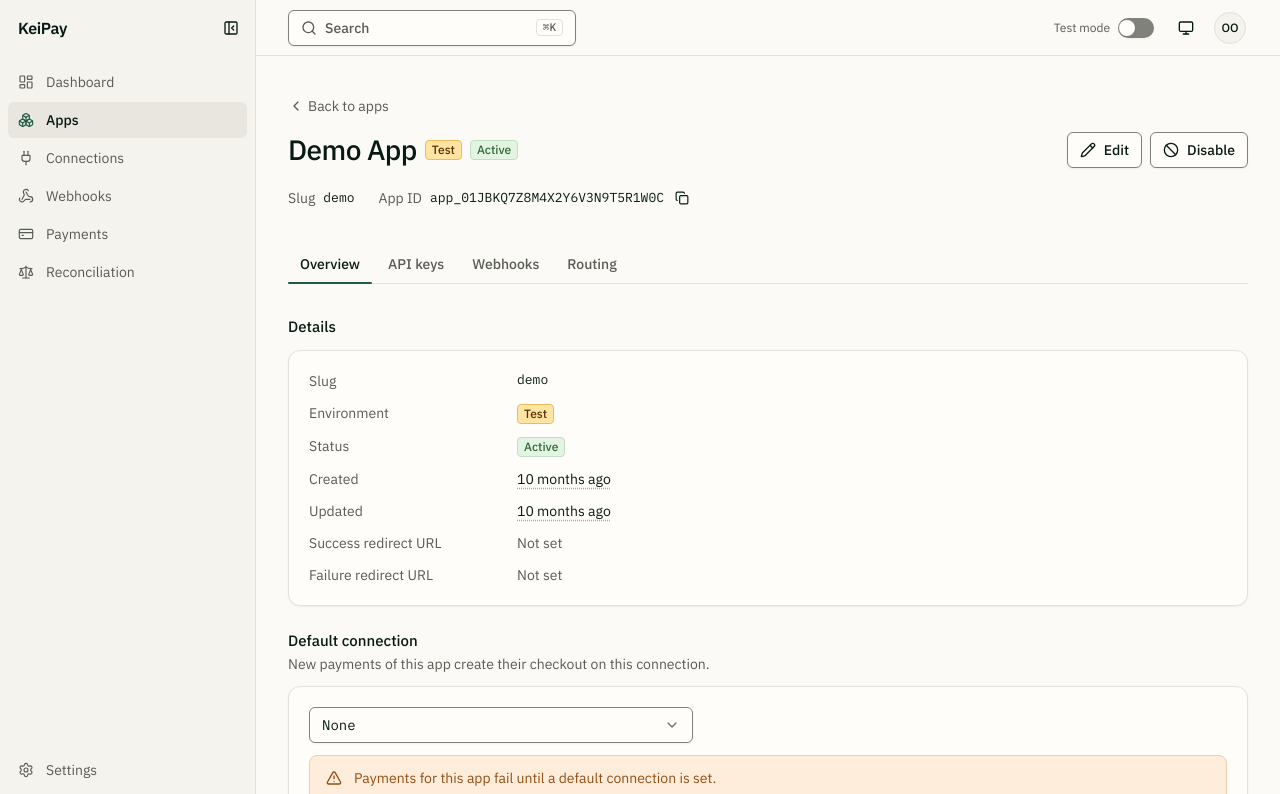
Test case: Default connection › shows the exists field error
Click the dropdown named "Default connection".
click(339, 725)  # box [309,707,693,743]
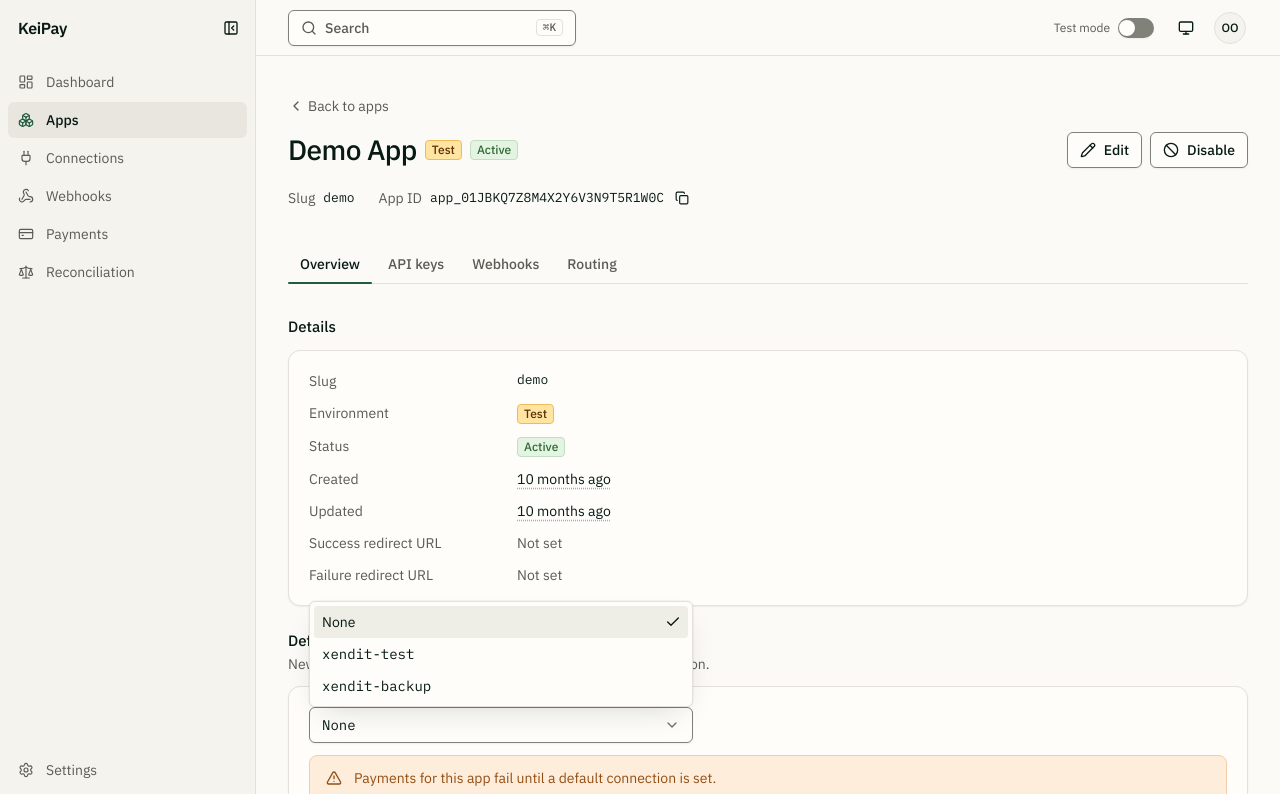
Click the option "xendit-backup".
click(377, 686)  # box [322,677,431,695]
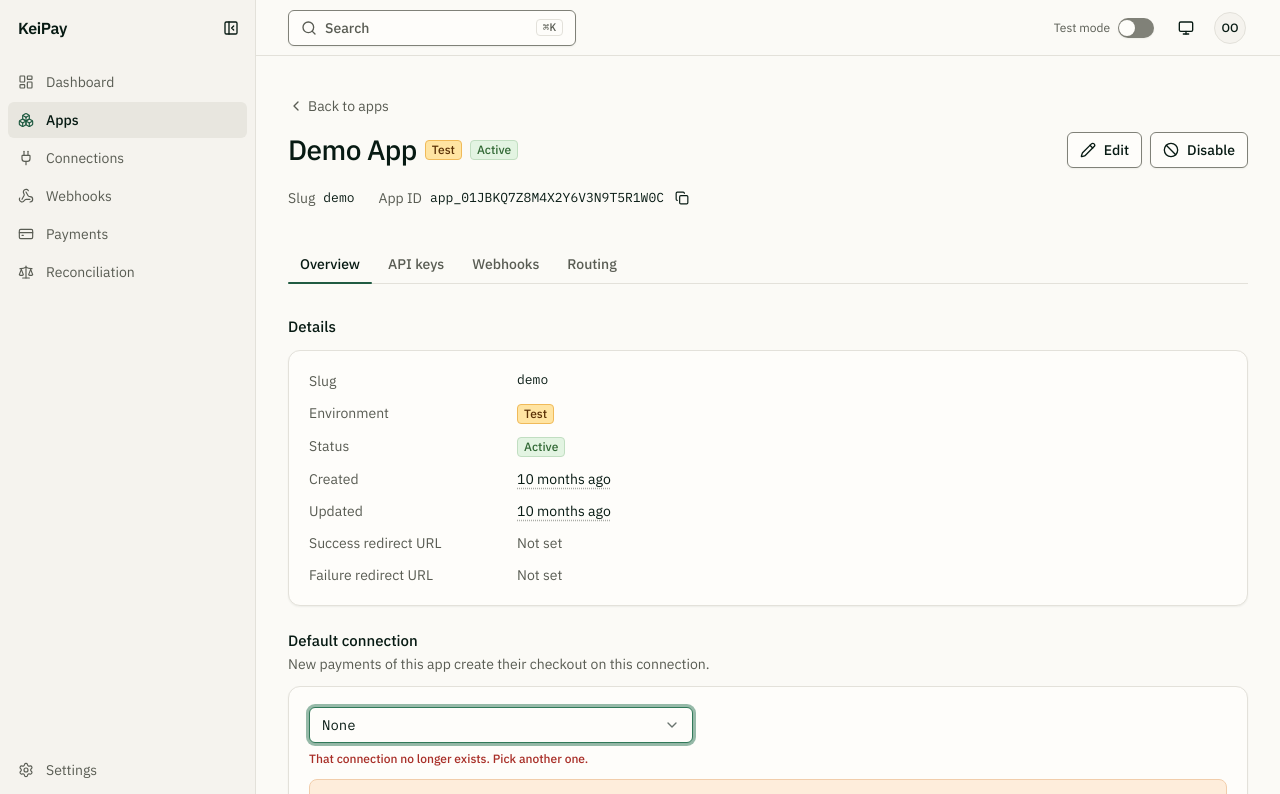
Expected: the text "That connection no longer exists. Pick another one." is shown, [309,751,588,766]
